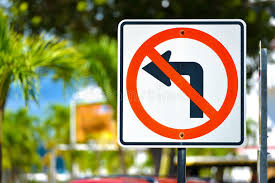No_left_turn: (126, 26, 239, 139)
